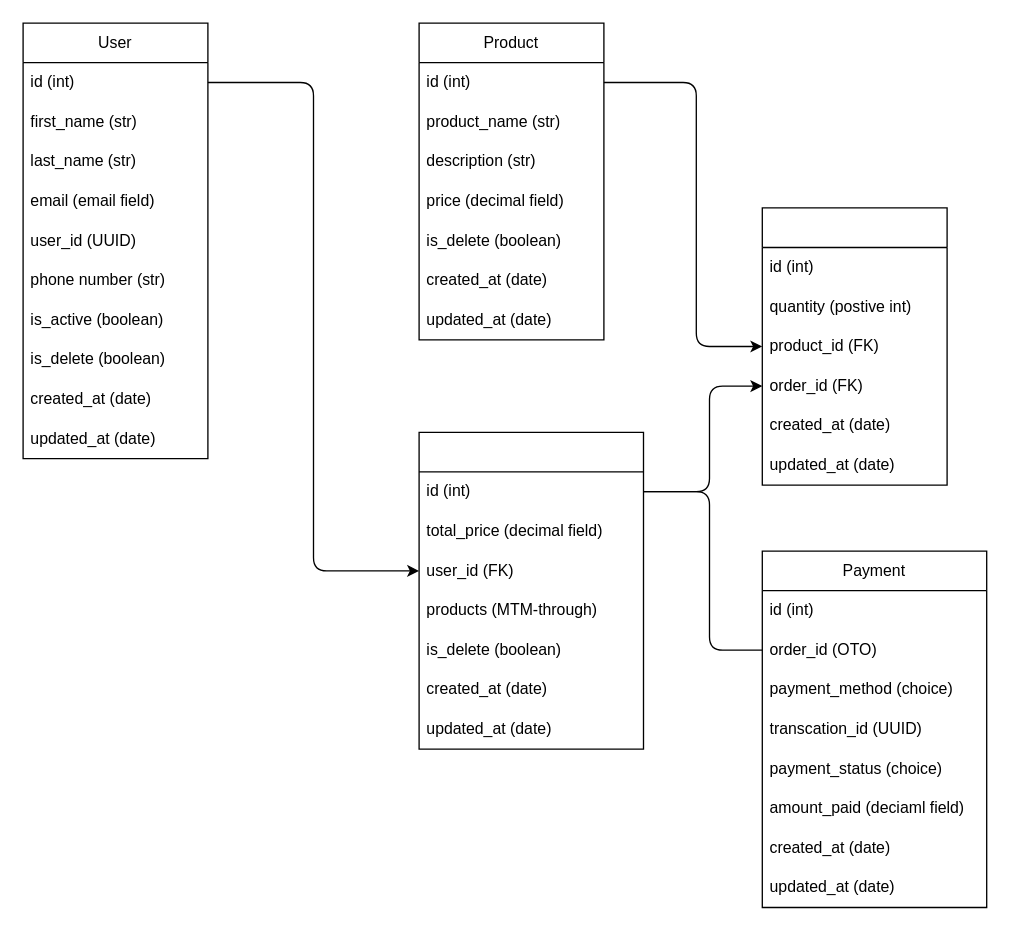
The diagram is 1010 pixels wide and 931 high, and some of its shapes have lost their labels. The box of each missing label's shape, as (x1, y1, x2, y2) in pixels:
Order: (418, 431, 644, 749)
OrderItem: (761, 207, 947, 485)
